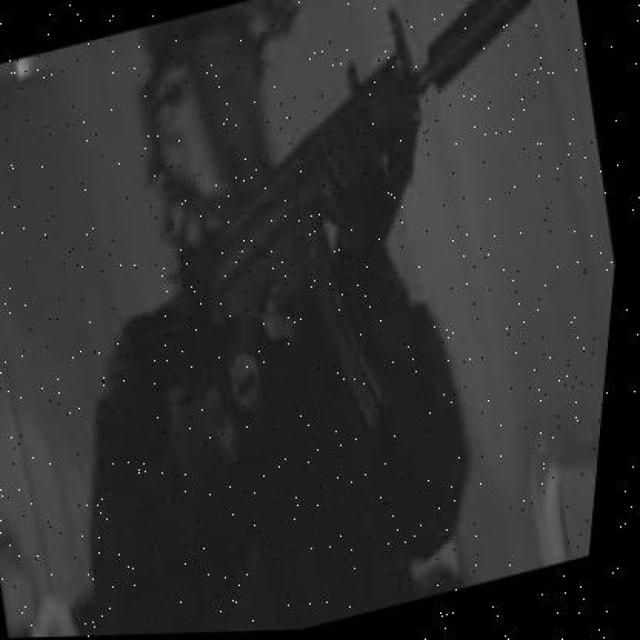weapon: (203, 0, 532, 428)
